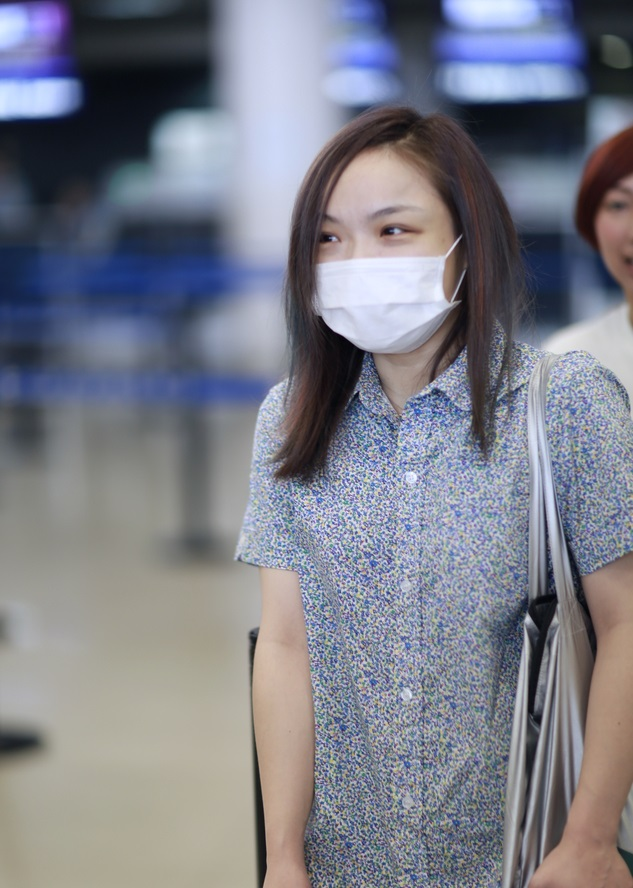face: (598, 159, 632, 295)
face_mask: (312, 149, 447, 355)
